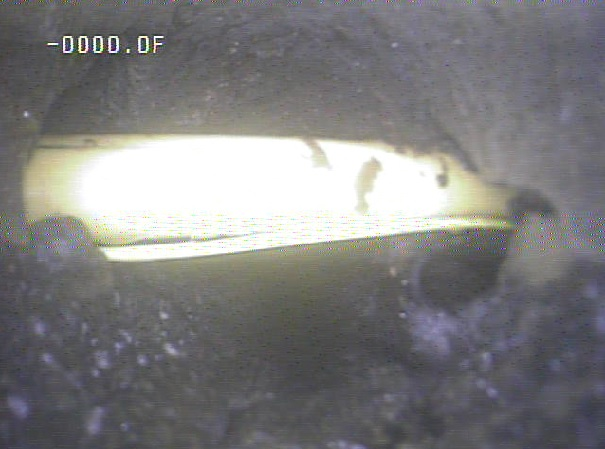cb: (15, 121, 553, 268)
